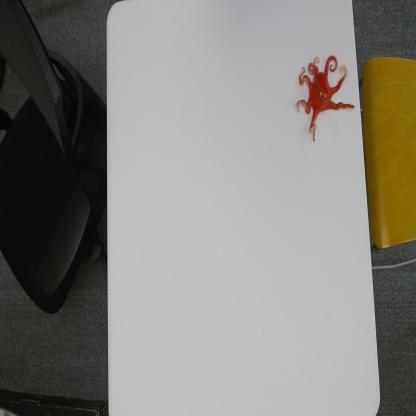Octopus: (295, 53, 356, 143)
